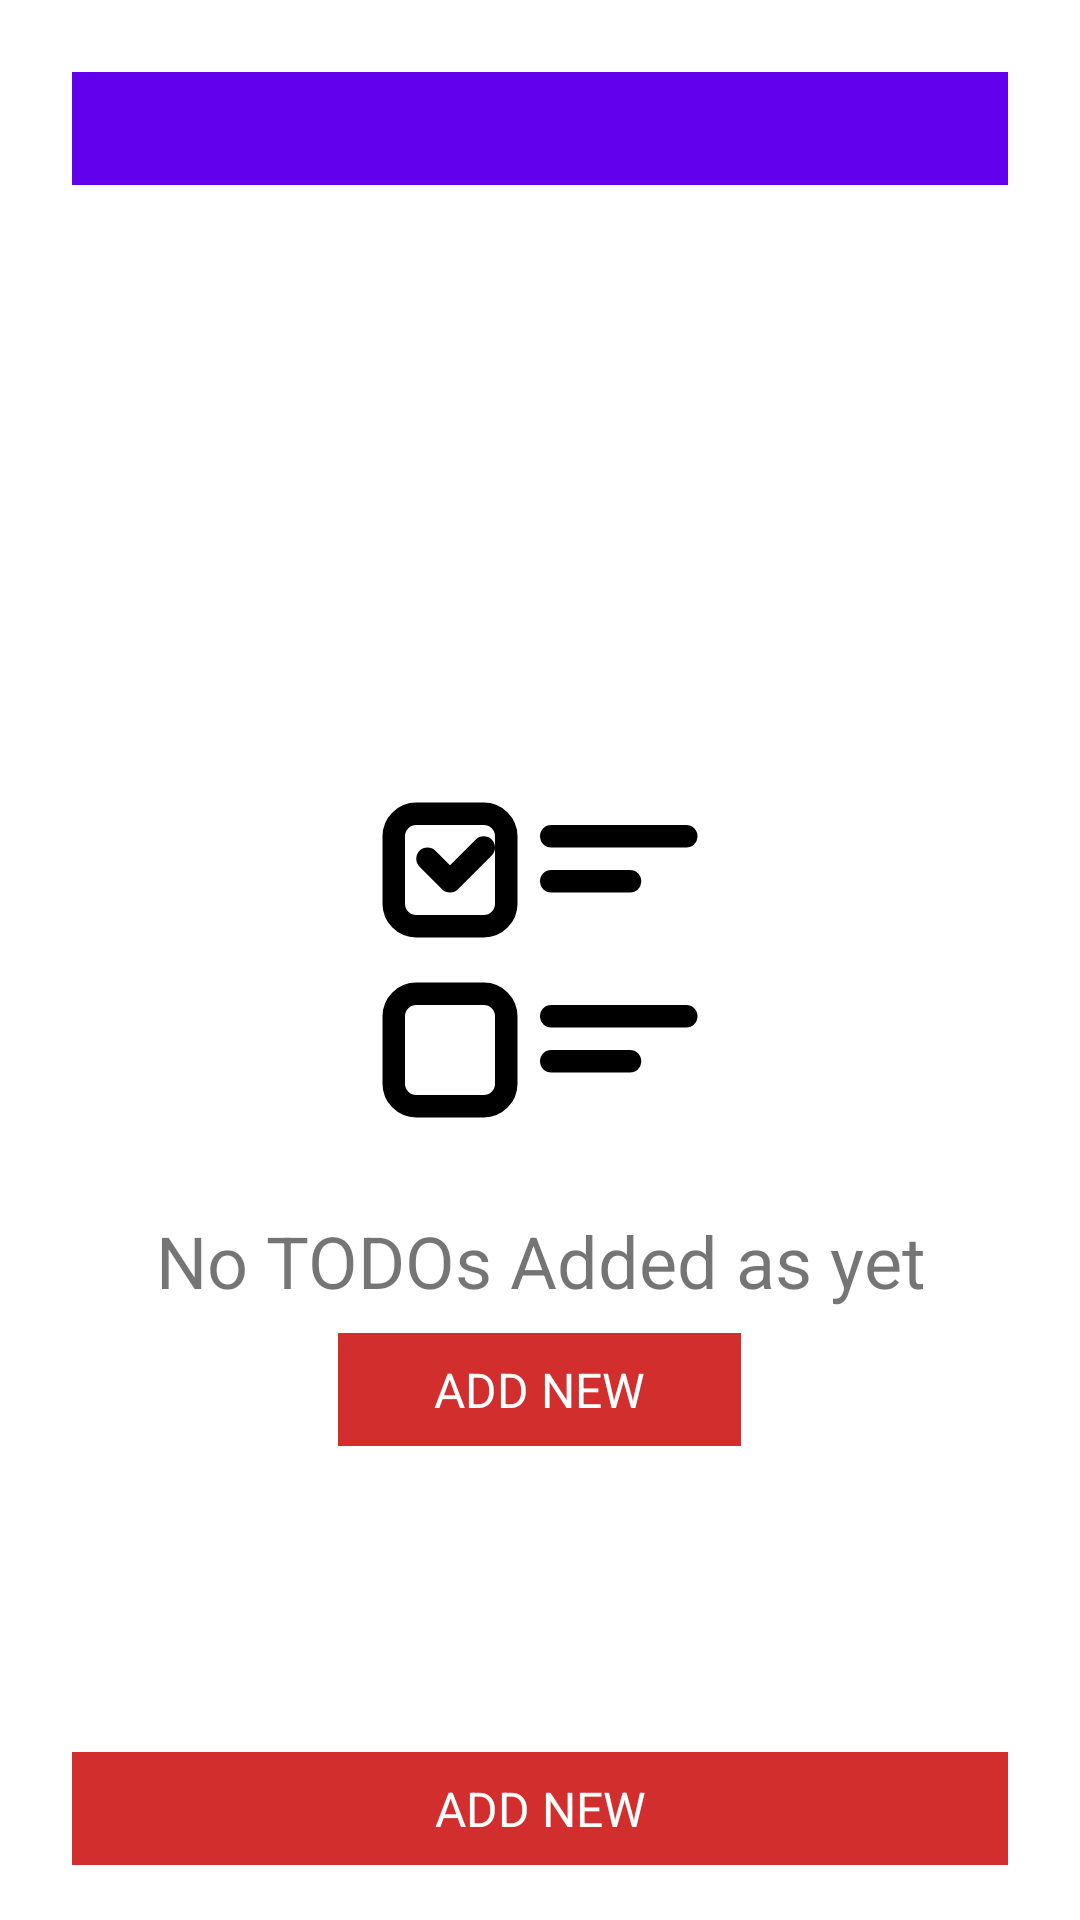

Where icons sit on this 1080 × 1920 app screen, as (x1, y1, x2, y2):
checkbox: (382, 802, 698, 1118)
